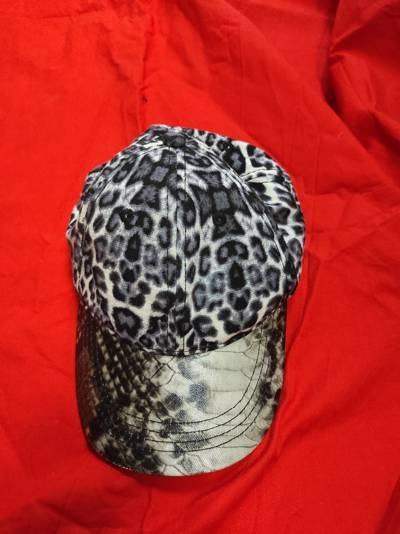Hat: (48, 79, 313, 494)
